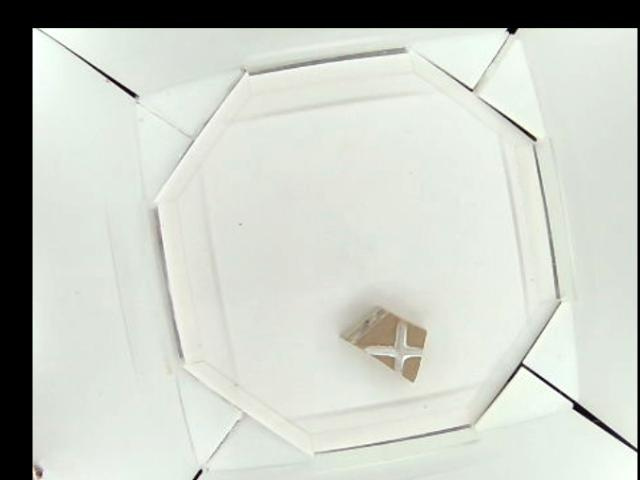China: (341, 306, 428, 381)
